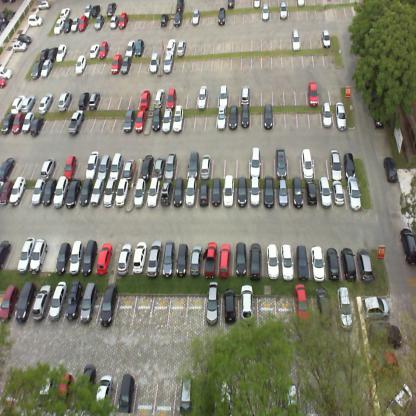car: (383, 382, 413, 415), (365, 321, 403, 346), (61, 289, 86, 326), (80, 287, 102, 325), (28, 288, 51, 324), (46, 290, 69, 326), (96, 288, 118, 324), (371, 352, 401, 378), (0, 284, 20, 322), (96, 375, 115, 415), (354, 240, 374, 277), (29, 238, 49, 275), (118, 374, 136, 415), (315, 286, 332, 329), (337, 286, 353, 331), (79, 364, 96, 406), (13, 289, 36, 320), (398, 226, 416, 265), (18, 236, 36, 275), (145, 240, 165, 275), (324, 242, 342, 280), (202, 293, 221, 329), (57, 371, 74, 411), (294, 283, 310, 325), (179, 374, 195, 415), (361, 297, 392, 318), (68, 240, 87, 274), (38, 374, 54, 414), (218, 376, 234, 416), (76, 176, 94, 210), (144, 177, 162, 211), (293, 243, 311, 277), (53, 241, 72, 273), (240, 282, 254, 325), (82, 240, 100, 273), (340, 241, 356, 278), (88, 174, 105, 208), (278, 244, 295, 278), (310, 242, 326, 278), (160, 241, 177, 274), (174, 243, 191, 276), (203, 241, 218, 278), (170, 176, 186, 210), (188, 242, 204, 276), (263, 243, 279, 277), (52, 175, 69, 207), (344, 176, 362, 206), (234, 241, 249, 277), (65, 176, 81, 209), (113, 177, 129, 210), (156, 178, 172, 211), (132, 240, 148, 273), (217, 242, 233, 275), (9, 176, 27, 205), (100, 178, 116, 210), (96, 244, 113, 274), (248, 240, 263, 274), (316, 177, 332, 208), (118, 242, 134, 272), (30, 176, 46, 206), (370, 99, 385, 130), (67, 108, 84, 135), (133, 177, 146, 212), (42, 176, 57, 206), (341, 149, 357, 177), (285, 383, 299, 415), (84, 153, 101, 179), (330, 179, 345, 208), (197, 179, 211, 210), (288, 180, 304, 207), (122, 106, 137, 134), (301, 148, 315, 178), (235, 179, 249, 209), (262, 178, 276, 208), (276, 179, 290, 209), (0, 179, 15, 207), (224, 286, 235, 324), (96, 154, 112, 180), (328, 148, 342, 177), (209, 180, 223, 209), (276, 148, 289, 179), (304, 178, 317, 209), (122, 155, 138, 180), (0, 156, 16, 181), (40, 155, 56, 180), (383, 156, 397, 184), (332, 101, 347, 127), (186, 152, 201, 178), (109, 155, 125, 179), (248, 150, 262, 177), (0, 237, 11, 271), (184, 179, 196, 210), (133, 108, 147, 134), (149, 154, 163, 180), (64, 152, 78, 178), (21, 108, 35, 134), (138, 155, 153, 179), (249, 179, 261, 209), (38, 91, 53, 115), (150, 106, 163, 133), (196, 82, 209, 109), (164, 152, 178, 177), (199, 152, 213, 177), (12, 110, 26, 135), (224, 179, 236, 208), (58, 88, 72, 111), (30, 113, 44, 136), (308, 79, 319, 107), (162, 107, 174, 132), (238, 105, 250, 130), (21, 93, 36, 113), (321, 104, 334, 126), (10, 94, 25, 113), (262, 105, 274, 128), (2, 112, 14, 135), (216, 107, 227, 131), (166, 86, 177, 110), (153, 87, 165, 109), (140, 87, 151, 111), (41, 58, 53, 80), (110, 52, 122, 74), (174, 108, 184, 134), (31, 60, 44, 80), (11, 39, 29, 53), (218, 83, 228, 108), (228, 106, 239, 128), (89, 90, 101, 110), (26, 13, 42, 28), (291, 27, 301, 50), (78, 90, 90, 109), (74, 55, 86, 74), (55, 44, 67, 63), (240, 84, 250, 106), (135, 36, 145, 58), (150, 51, 160, 73), (163, 52, 173, 74), (322, 27, 332, 49), (98, 40, 110, 58), (76, 14, 88, 32), (278, 0, 288, 21), (92, 14, 104, 31), (121, 56, 131, 76), (125, 38, 136, 56), (52, 19, 64, 35), (166, 36, 176, 54), (172, 10, 182, 28), (89, 43, 100, 59), (217, 6, 226, 25), (118, 11, 128, 28), (0, 65, 12, 79), (70, 17, 81, 32), (62, 18, 73, 33), (177, 38, 186, 56), (261, 3, 270, 21), (191, 7, 200, 25), (40, 47, 50, 63), (18, 32, 32, 43), (47, 46, 58, 60), (108, 14, 118, 29), (106, 3, 116, 18), (90, 4, 100, 18), (38, 0, 50, 11), (60, 7, 70, 20), (160, 12, 168, 27), (84, 3, 92, 18), (0, 76, 7, 91), (175, 0, 184, 11), (251, 0, 261, 8), (297, 0, 306, 8), (228, 0, 235, 10)
